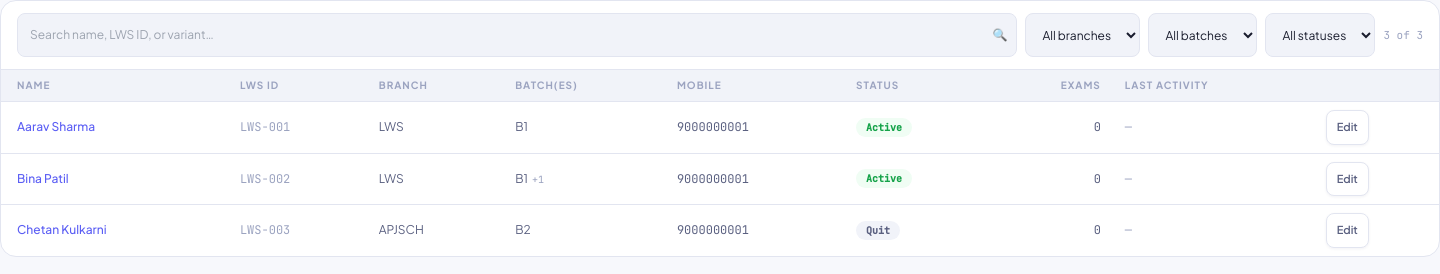
StudentsTable — filters › batch filter narrows the list
Select "B2" in the dropdown named "batch". click: [1203, 35]
box: [1148,13,1257,57]
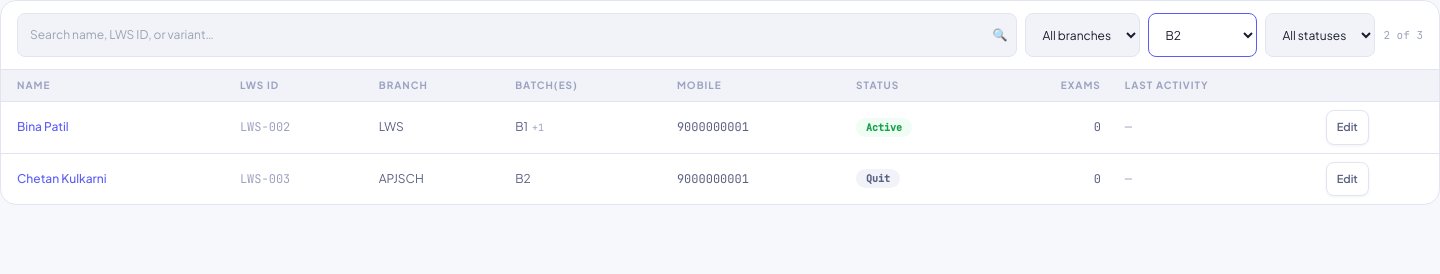
Expected: the button "Bina Patil" is shown, [17,118,69,136]
Expected: the button "Aarav Sharma" is gone
